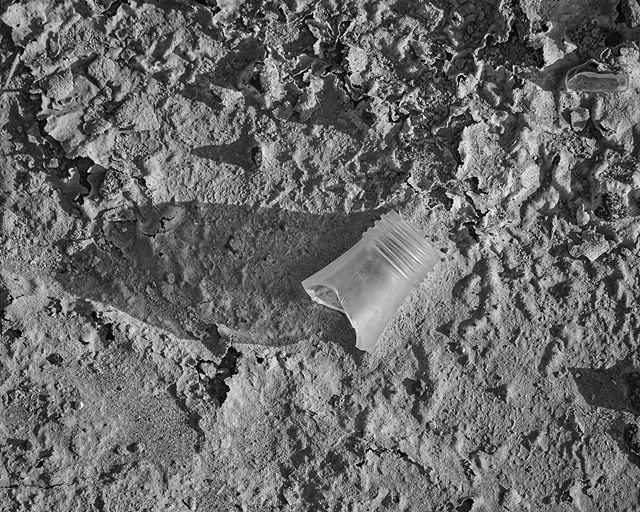trash: (3, 138, 509, 504)
